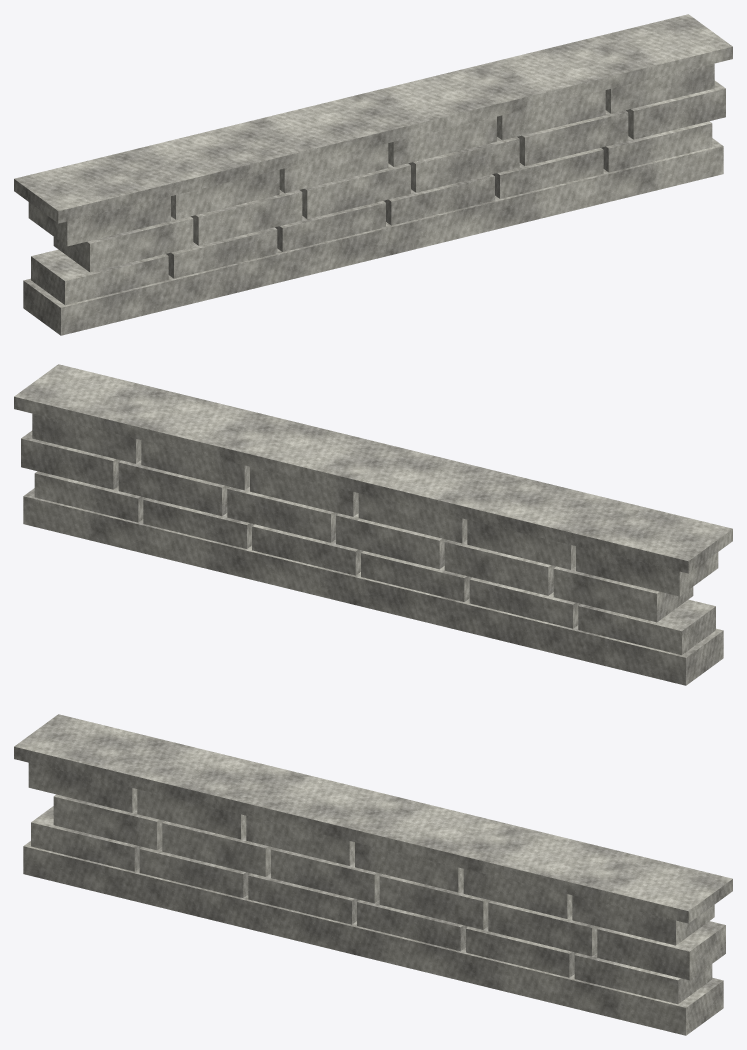
File: village-stone-wall.obj
3 views of the same model, one above another, from view 1: azimuth 30°, elevation 25°; view 2: azimuth 150°, elevation 25°; view 3: azimuth 330°, elevation 25° (orthographic).
Bounding box in the file's own units: 4.56 × 0.83 × 0.52.
4 materials, 4 textured.
